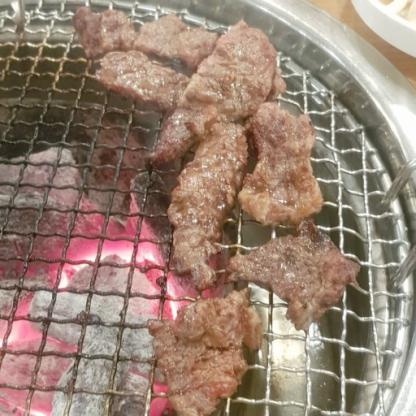Carne: (140, 292, 262, 415), (224, 230, 364, 330), (163, 121, 248, 282), (235, 97, 323, 227), (185, 18, 274, 123), (77, 0, 204, 67), (90, 51, 189, 116)
